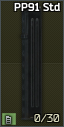PP-91 9x18PM 30-round magazine: (0, 0, 64, 127)
